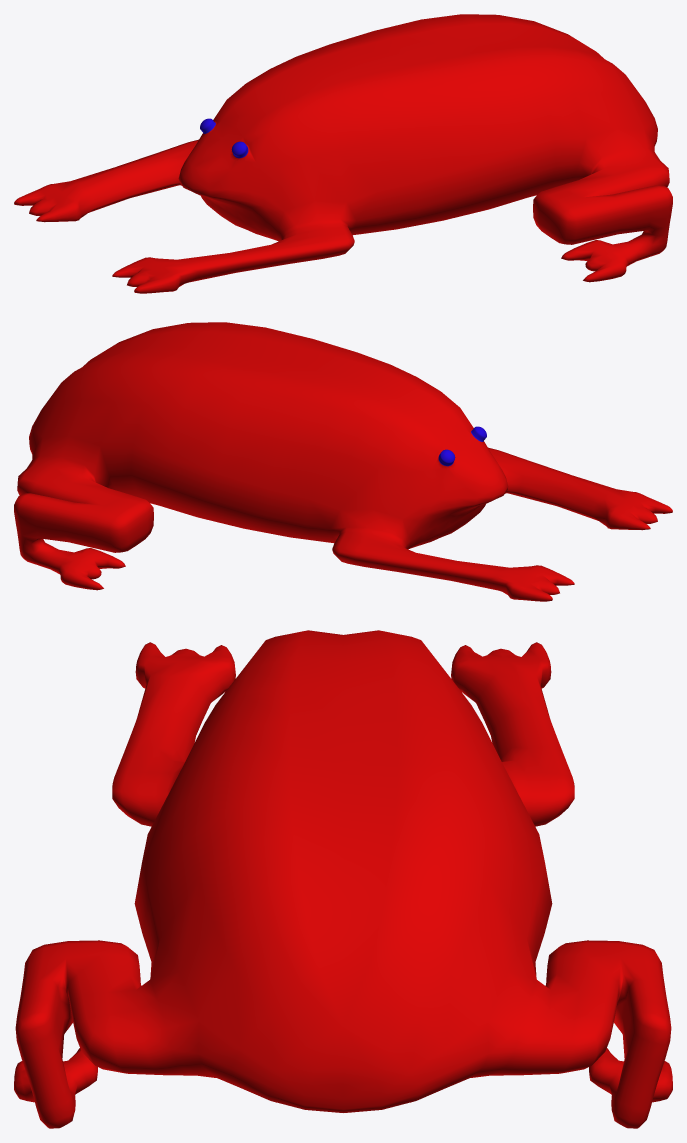
File: frog.fbx
The picture shows the model from 3 angles, top to bottom: view 1: azimuth 30°, elevation 25°; view 2: azimuth 150°, elevation 25°; view 3: azimuth 270°, elevation 25°; orthographic projection. The views are drawn at different scales.
Visible parts, largest first — view 1: frog; view 2: frog; view 3: frog.
Part boxes in pixels (<box>): frog: <box>14,14,672,293</box>; frog: <box>14,322,672,601</box>; frog: <box>14,630,672,1128</box>.
Size of the model in its own units: 75.15 by 23.14 by 47.29.
